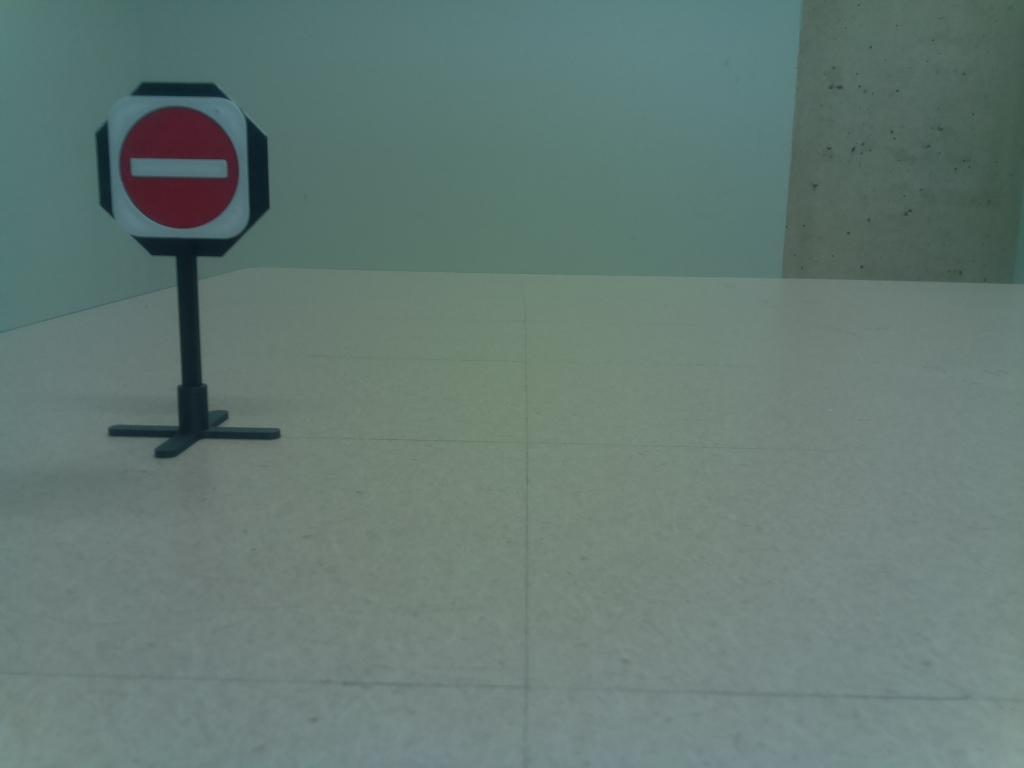sign_noentry: (87, 73, 283, 265)
